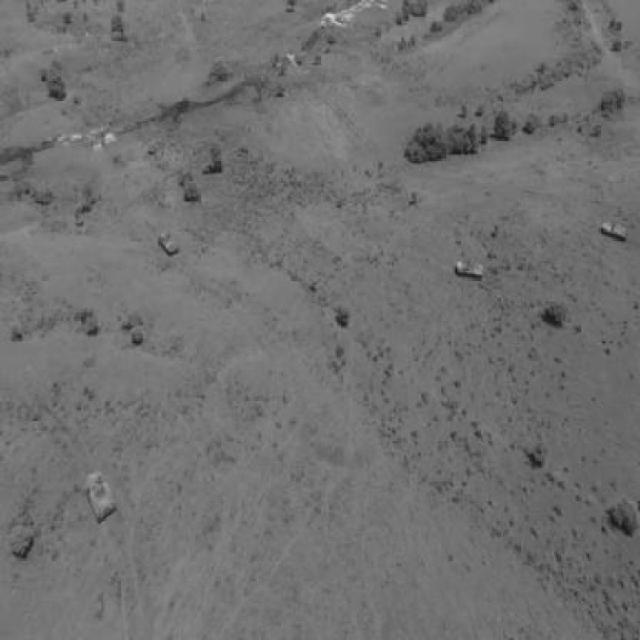Vehicle: (83, 467, 119, 526), (601, 220, 633, 243), (456, 257, 487, 280), (158, 230, 182, 256)
